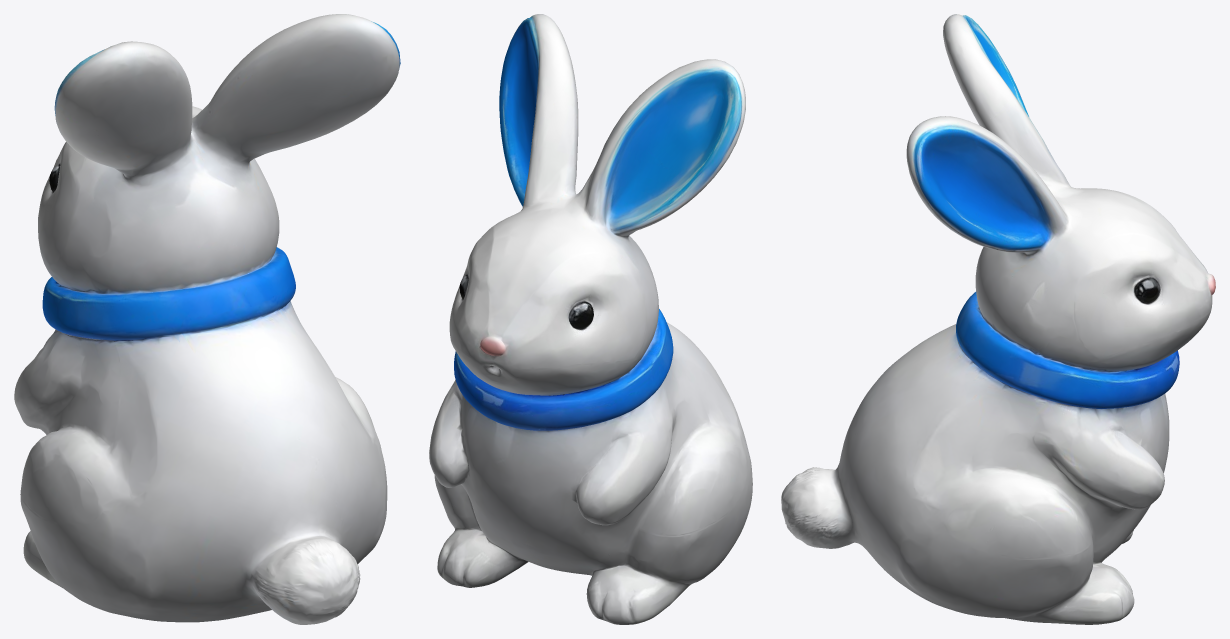
The model's file is rabbit.glb.
3 views of the same model, side by side, from view 1: azimuth 30°, elevation 25°; view 2: azimuth 150°, elevation 25°; view 3: azimuth 270°, elevation 25° (orthographic). The views are drawn at different scales.
Parts seen in each view (by area): view 1: tripo_node_41a259d6-0de8-4e2a-b268-e99c95d6d392; view 2: tripo_node_41a259d6-0de8-4e2a-b268-e99c95d6d392; view 3: tripo_node_41a259d6-0de8-4e2a-b268-e99c95d6d392.
Part boxes in pixels (x1=…): tripo_node_41a259d6-0de8-4e2a-b268-e99c95d6d392: x1=14, y1=14, x2=400, y2=624; tripo_node_41a259d6-0de8-4e2a-b268-e99c95d6d392: x1=429, y1=14, x2=752, y2=624; tripo_node_41a259d6-0de8-4e2a-b268-e99c95d6d392: x1=781, y1=14, x2=1215, y2=624.
Size of the model in its own units: 0.5563 by 0.9798 by 0.7565.
1 material, 1 textured.
